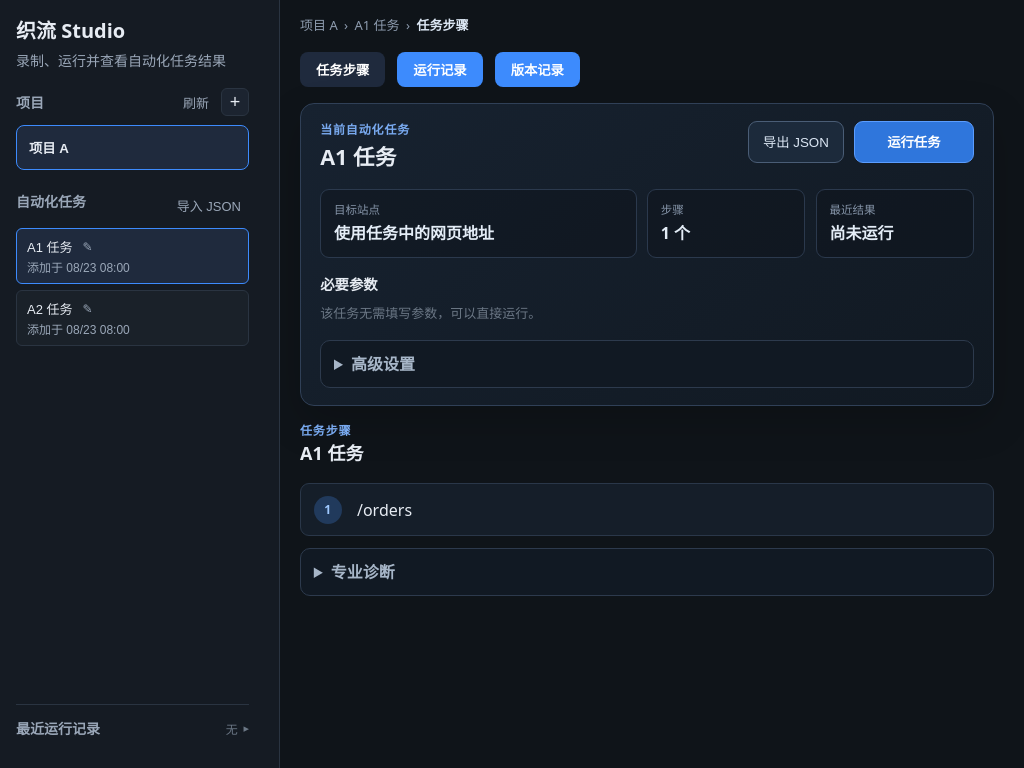
Test case: App Flow 导入导出 › 同项目切换任务后仍刷新导入副本，但不抢回当前任务
The image size is (1024, 768).
Click the button "导入 JSON" at (209, 205), box [169,190,249,220]
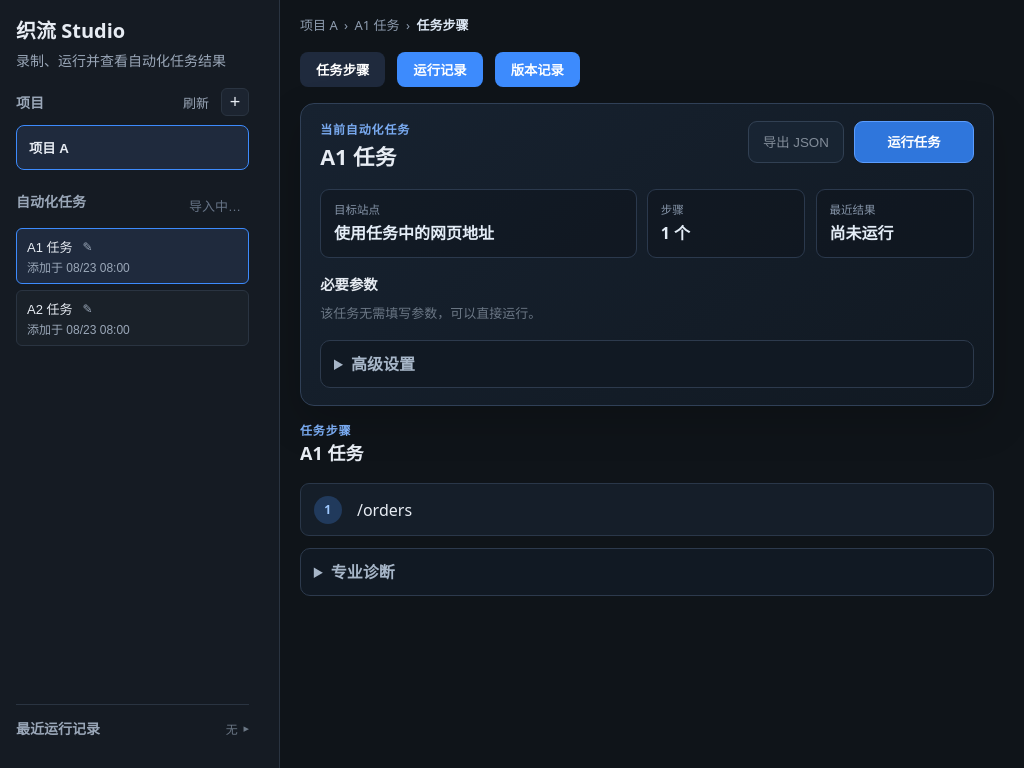
Click the button with class "flow-list-item" showing "A2 任务 ✎ 添加于 08/23 08:00" at (132, 318), box [16,290,249,346]
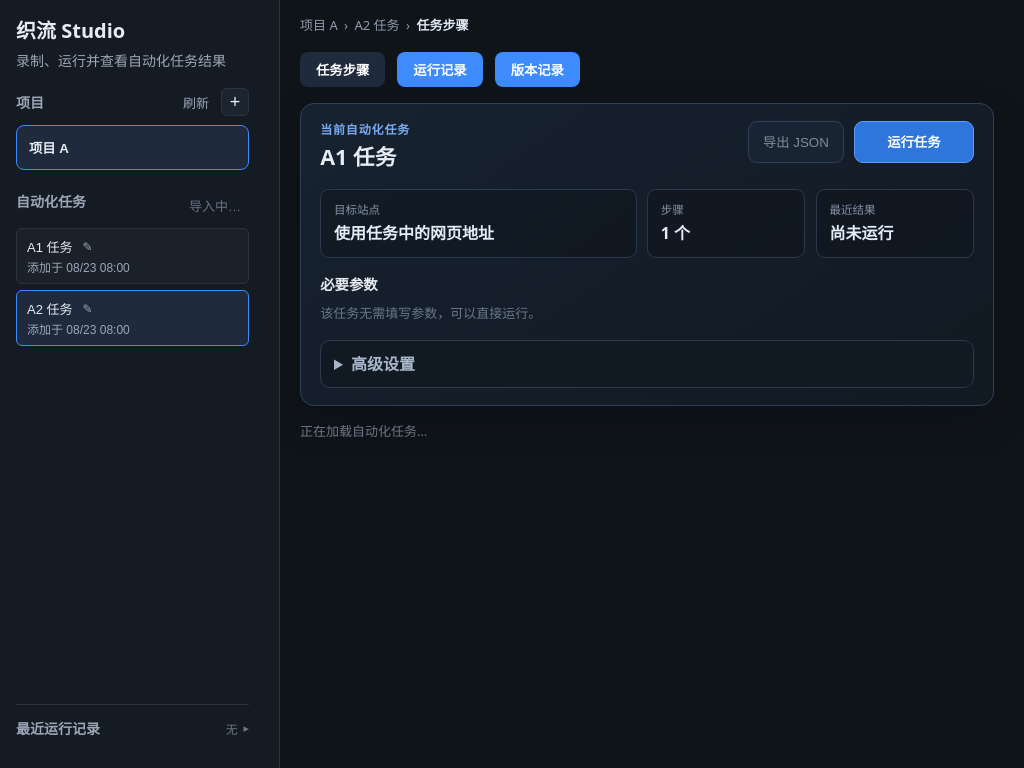
Check: the button "导入中…" is disabled
Click the button "导入中…" at (215, 205), box [181,190,249,220]
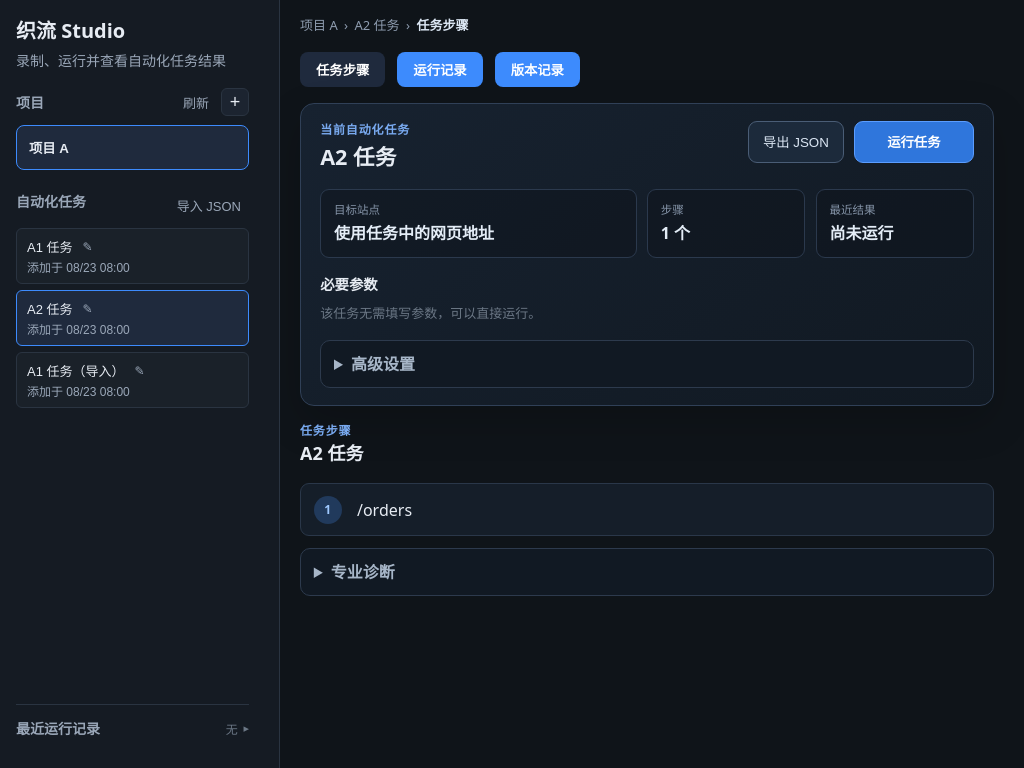
Check: the button "A2 任务 ✎ 添加于 08/23 08:00" is shown, box [16,290,249,346]
Check: the text "A1 任务（导入）" is shown, box [27,361,124,380]
Check: the heading with id "run-workspace-title" reads "A2 任务", box [320,142,396,171]
